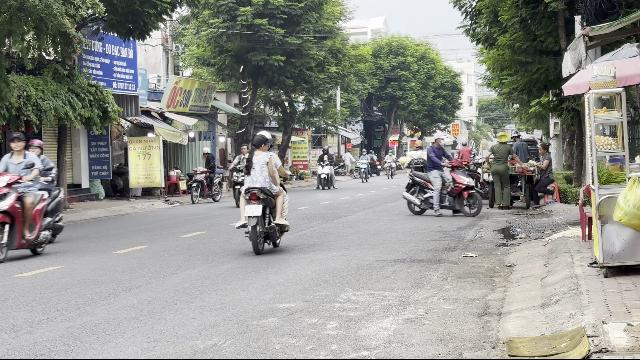helmet: (26, 138, 44, 154)
licenseplate: (245, 206, 263, 216)
motorcyclist: (0, 132, 70, 264), (232, 129, 292, 253), (401, 131, 485, 219)
nohelmet: (7, 132, 25, 152), (250, 135, 270, 153), (432, 132, 448, 148)
